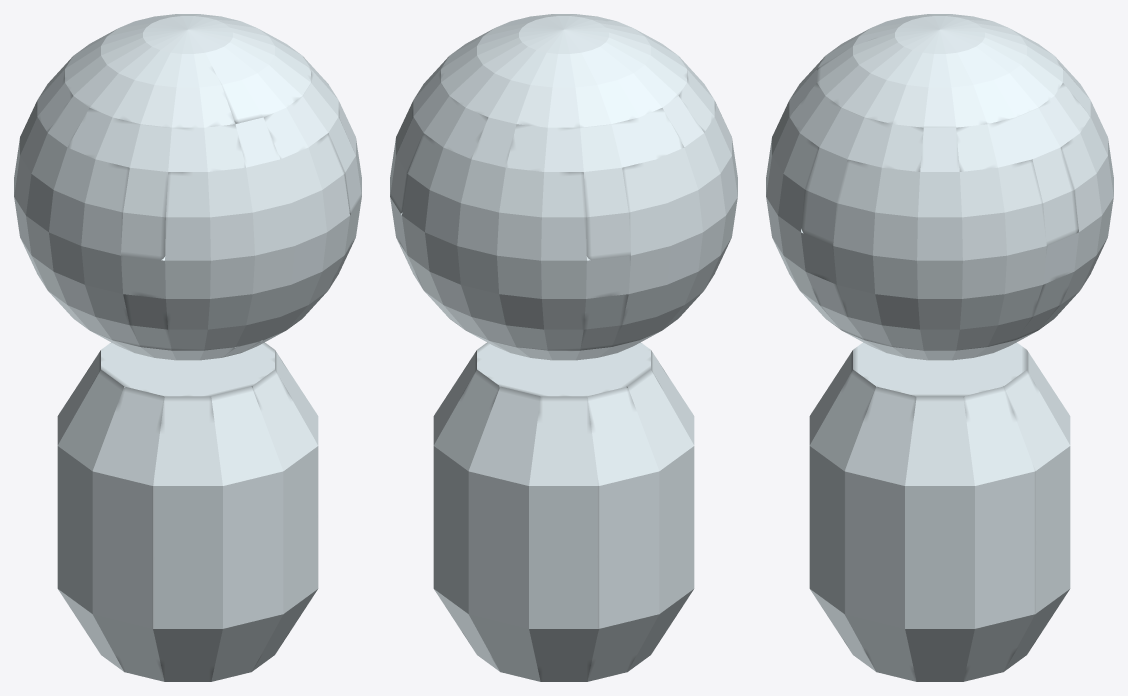
The model's file is player.obj.
The picture shows the model from 3 angles, left to right: view 1: azimuth 30°, elevation 25°; view 2: azimuth 150°, elevation 25°; view 3: azimuth 270°, elevation 25°; orthographic projection.
Visible parts, largest first — view 1: sphere, cylinder; view 2: sphere, cylinder; view 3: sphere, cylinder.
Part boxes in pixels (x1,y1,x2,y2): sphere: (14, 14, 361, 360); cylinder: (57, 342, 318, 681); sphere: (390, 14, 737, 360); cylinder: (433, 342, 694, 681); sphere: (766, 14, 1113, 360); cylinder: (809, 342, 1070, 681).
Size of the model in its own units: 2 by 3.91 by 2.
Materials: 1 (1 with a texture image).
